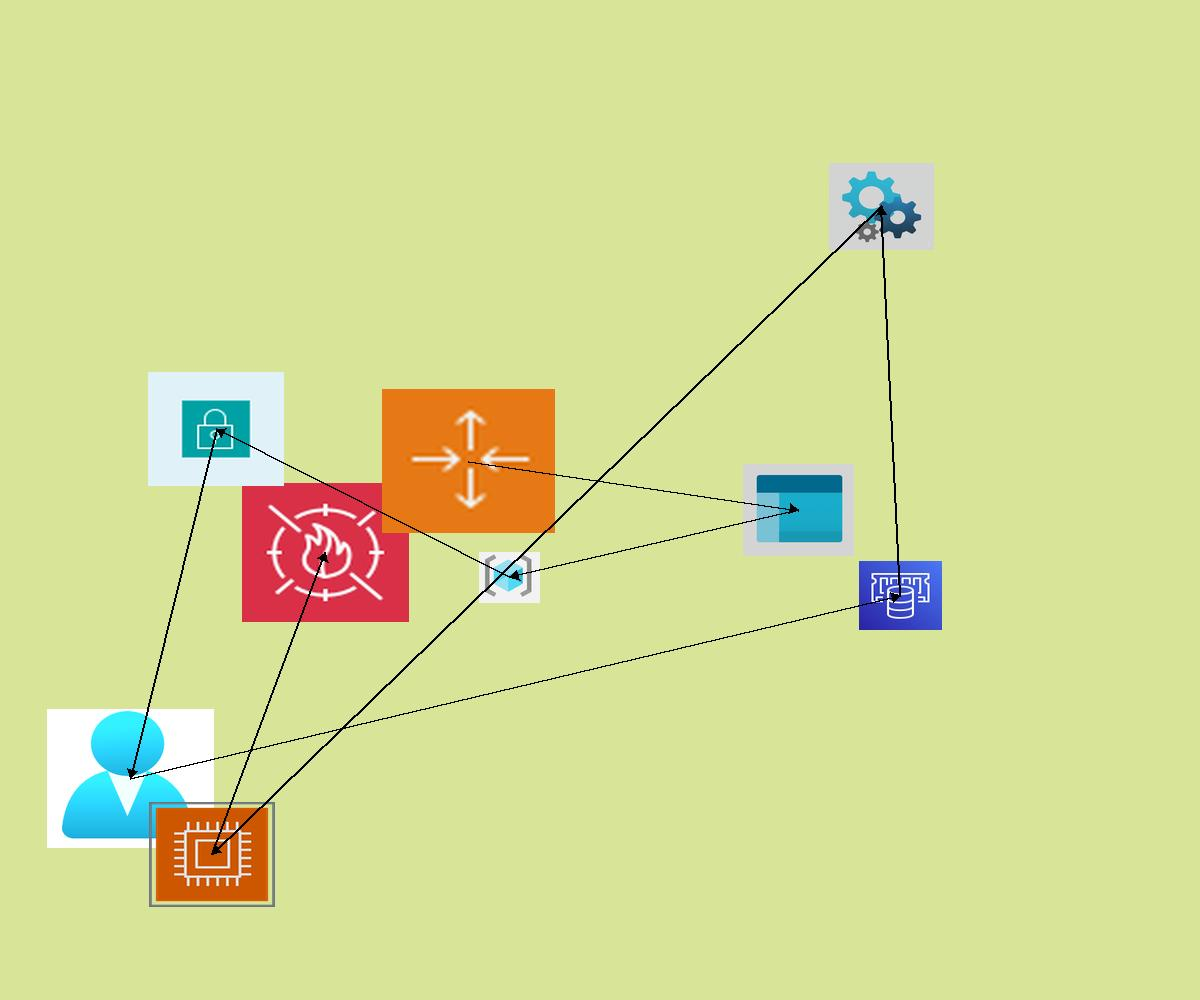AWS-Category_Compute: (149, 802, 275, 907)
AWS-ElastiCache: (859, 561, 942, 630)
AWS-Private-subnet: (148, 372, 284, 486)
AWS-Scaling-group: (382, 389, 555, 533)
AWS-WAF: (242, 483, 409, 622)
Azure_api: (829, 163, 934, 250)
Azure_management-portal: (743, 464, 854, 556)
Azure_resource_group: (479, 552, 540, 603)
Azure_users: (47, 709, 214, 848)
